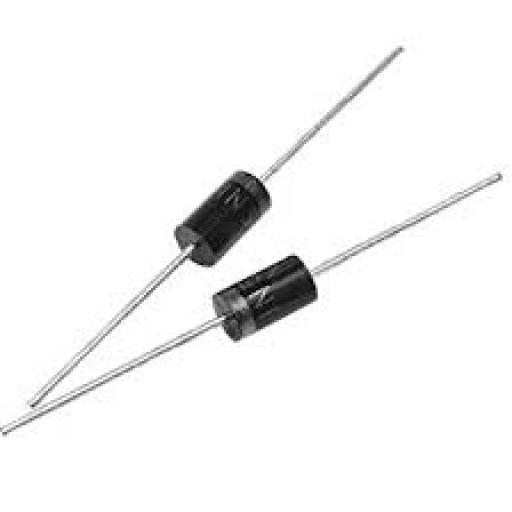DIODE: (0, 41, 505, 437), (185, 230, 352, 361), (137, 149, 301, 276)
